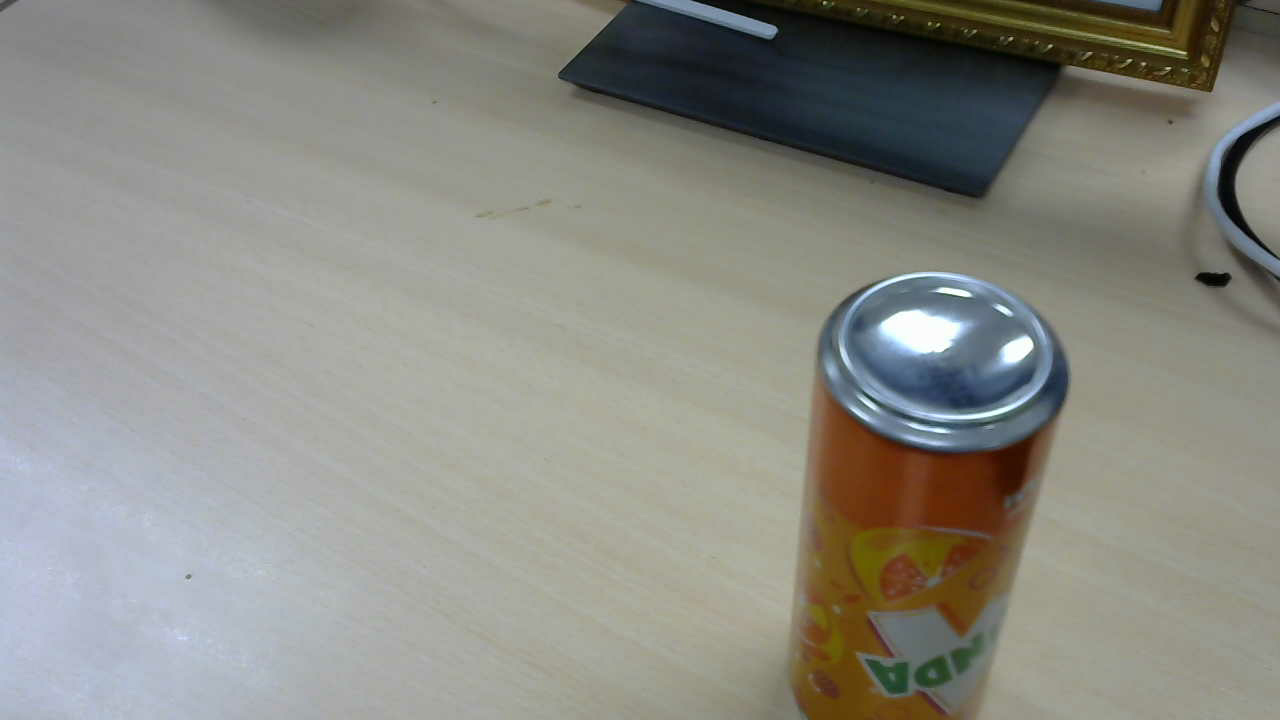Mirinda: (790, 275, 1078, 700)
